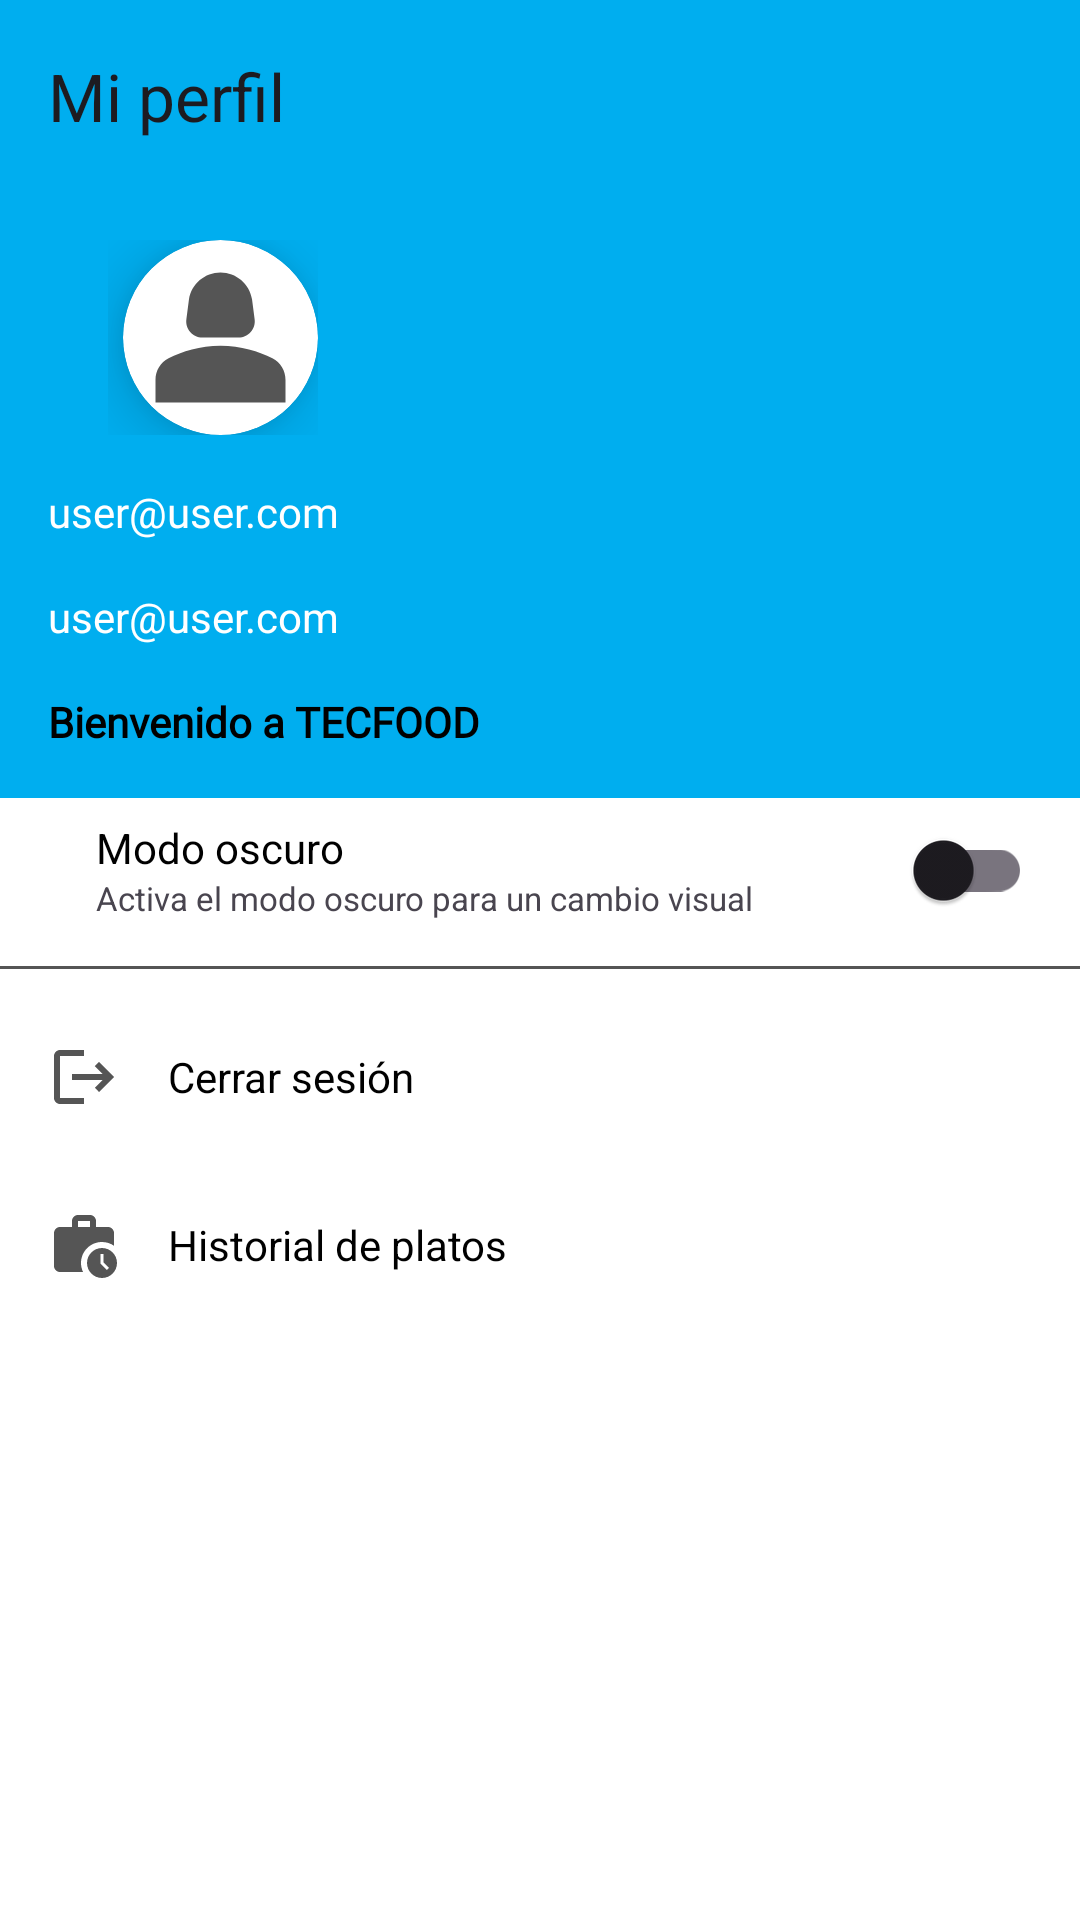

Named icons in this screenshot (1080×1920) and their centers, (x=x, y=y):
history: (x=85, y=1246)
perfil person: (x=220, y=337)
